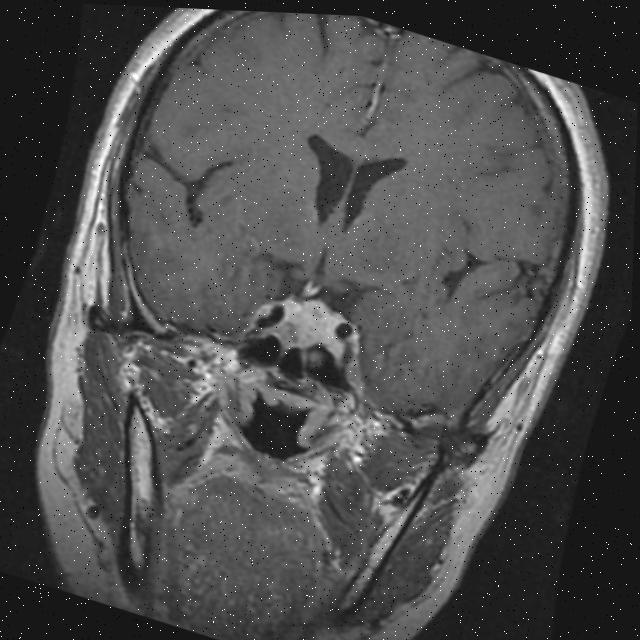Pituitary: (267, 287, 348, 366)
